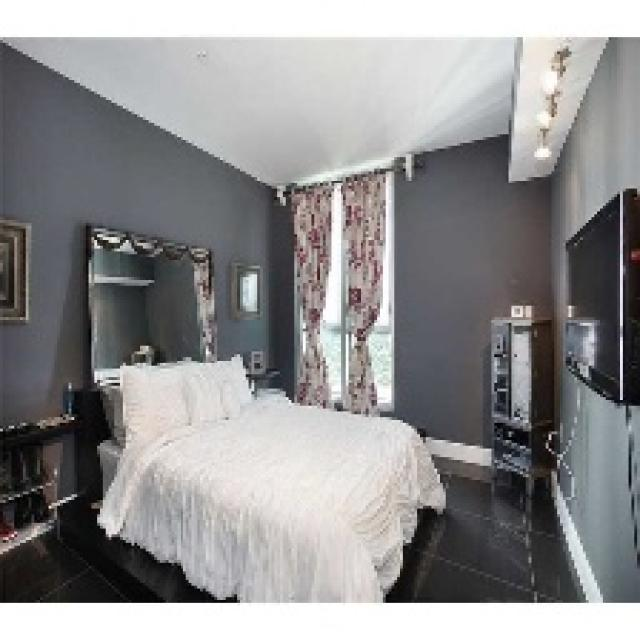Bed: (86, 357, 446, 600)
